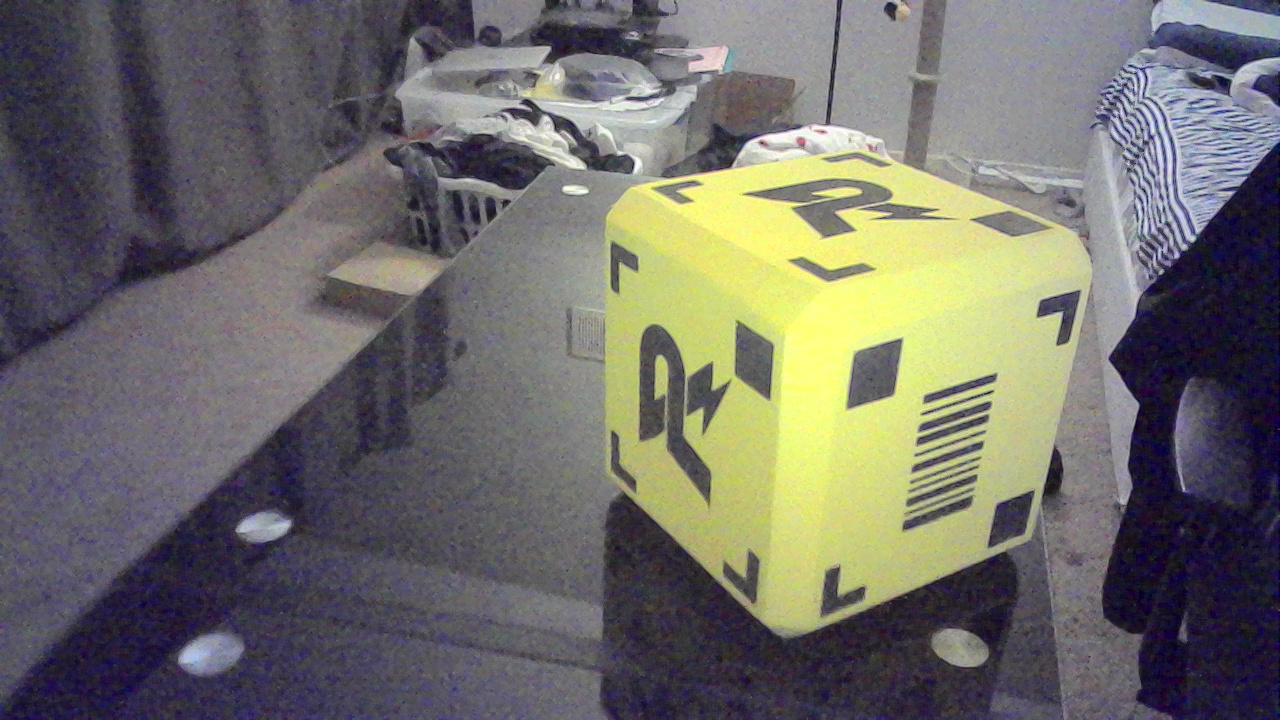Barcode: (900, 384, 1014, 535)
R: (636, 328, 742, 507), (754, 177, 964, 248)
